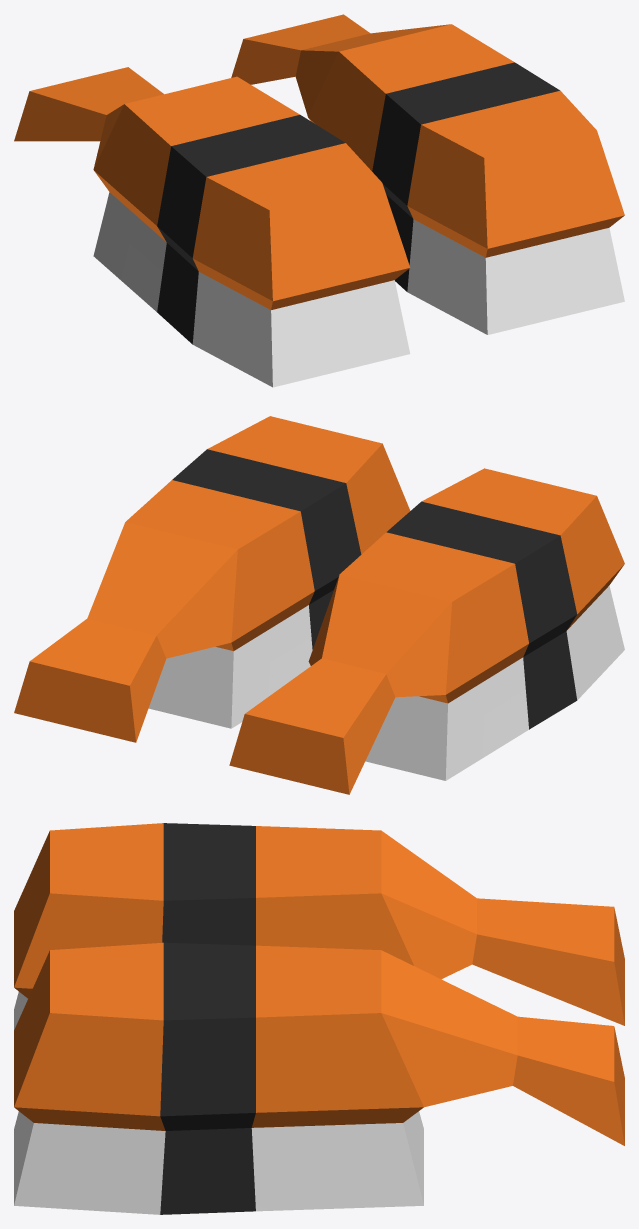
File: sushi-shrimp.glb
3 views of the same model, one above another, from view 1: azimuth 30°, elevation 25°; view 2: azimuth 150°, elevation 25°; view 3: azimuth 270°, elevation 25° (orthographic). The views are drawn at different scales.
Parts seen in each view (by area): view 1: sushi-shrimp; view 2: sushi-shrimp; view 3: sushi-shrimp.
Part boxes in pixels (<box>): sushi-shrimp: <box>14,14,624,387</box>; sushi-shrimp: <box>14,416,624,794</box>; sushi-shrimp: <box>14,823,624,1214</box>.
Size of the model in its own units: 0.124 by 0.0502 by 0.1493.
Materials: 1 (1 with a texture image).
